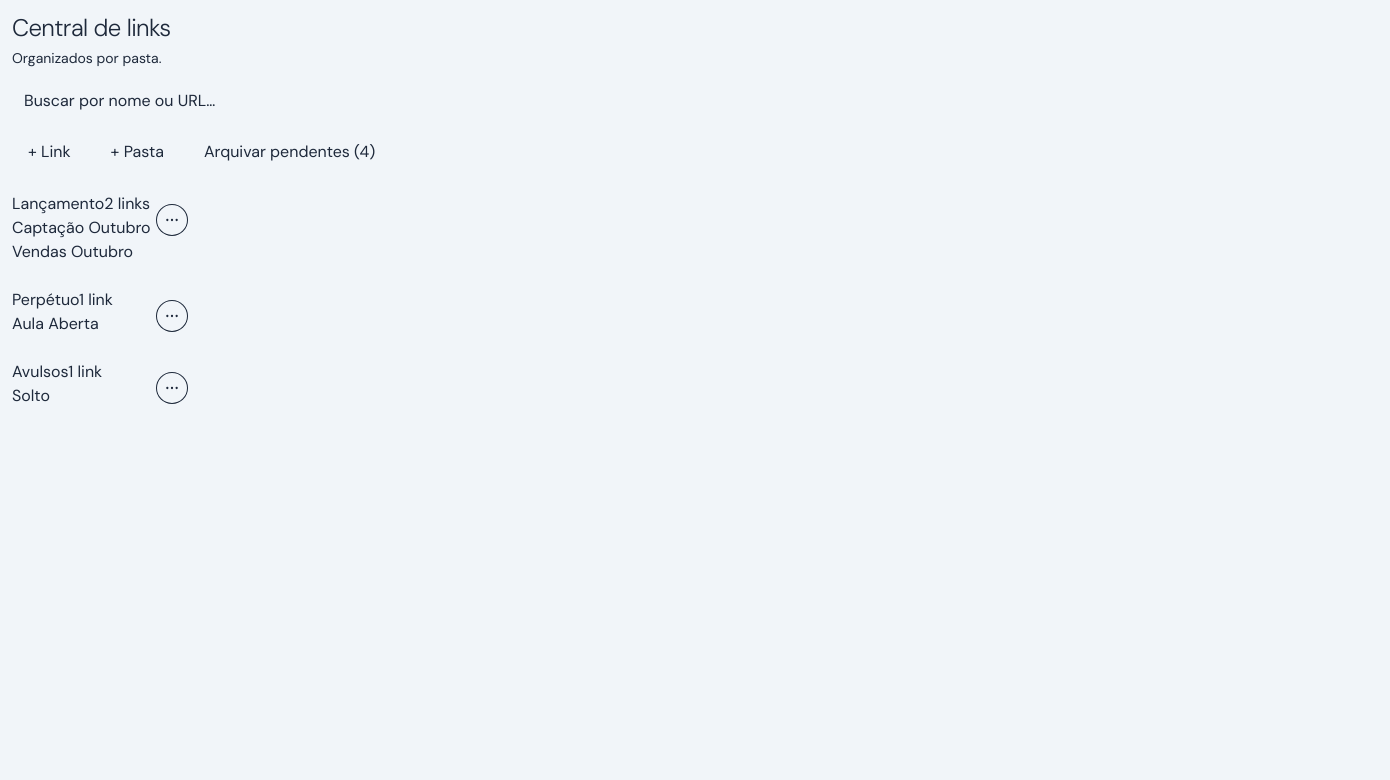
Central de links: papel › admin vê os botões de escrita
Expected: the element named "Pastas" is shown, [12,192,188,408]
Click the button "Lançamento2 links" at (81, 204), box [12,192,150,216]
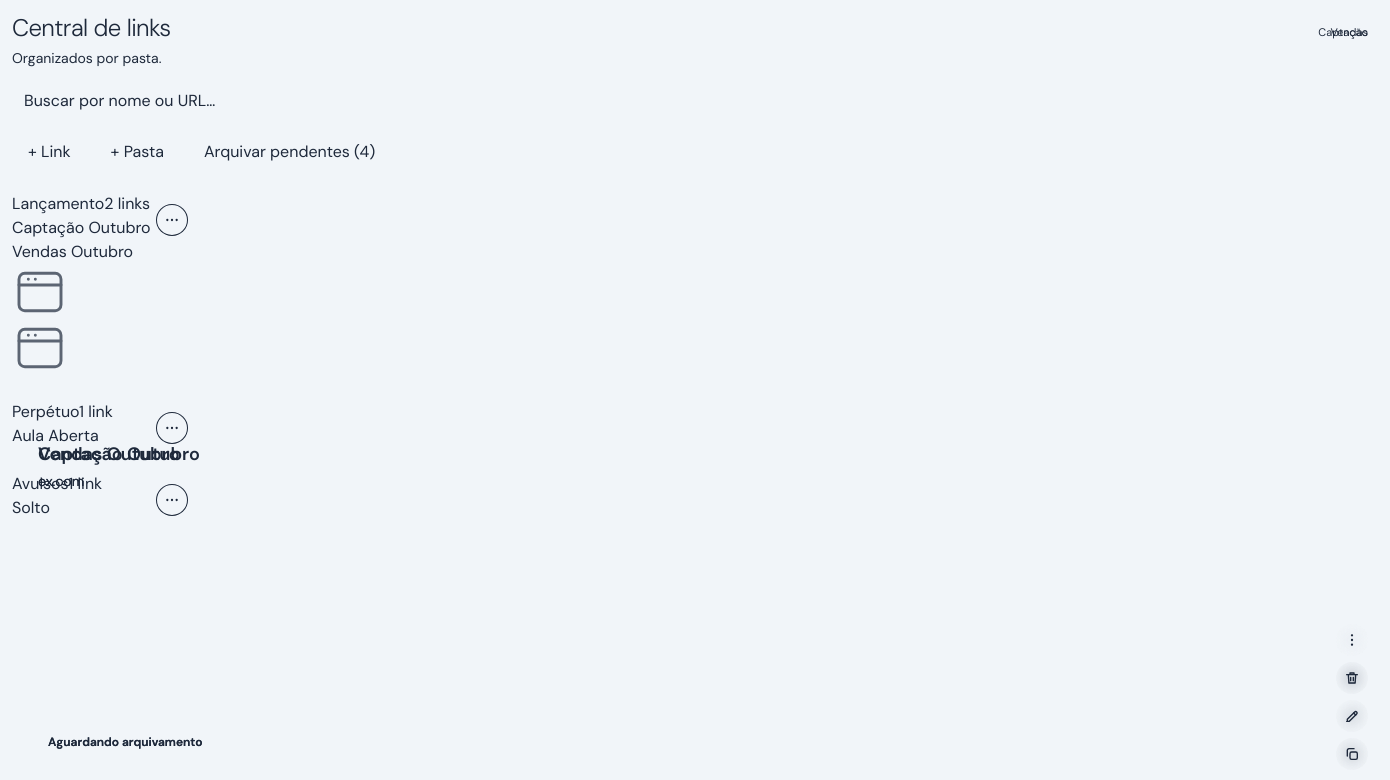
Expected: the button "+ Link" is shown, [12,132,87,172]
Expected: the number of buttons named "Editar " is 2, [1336,700,1368,732]; [1336,700,1368,732]
Expected: the number of buttons named "Excluir " is 2, [1336,662,1368,694]; [1336,662,1368,694]
